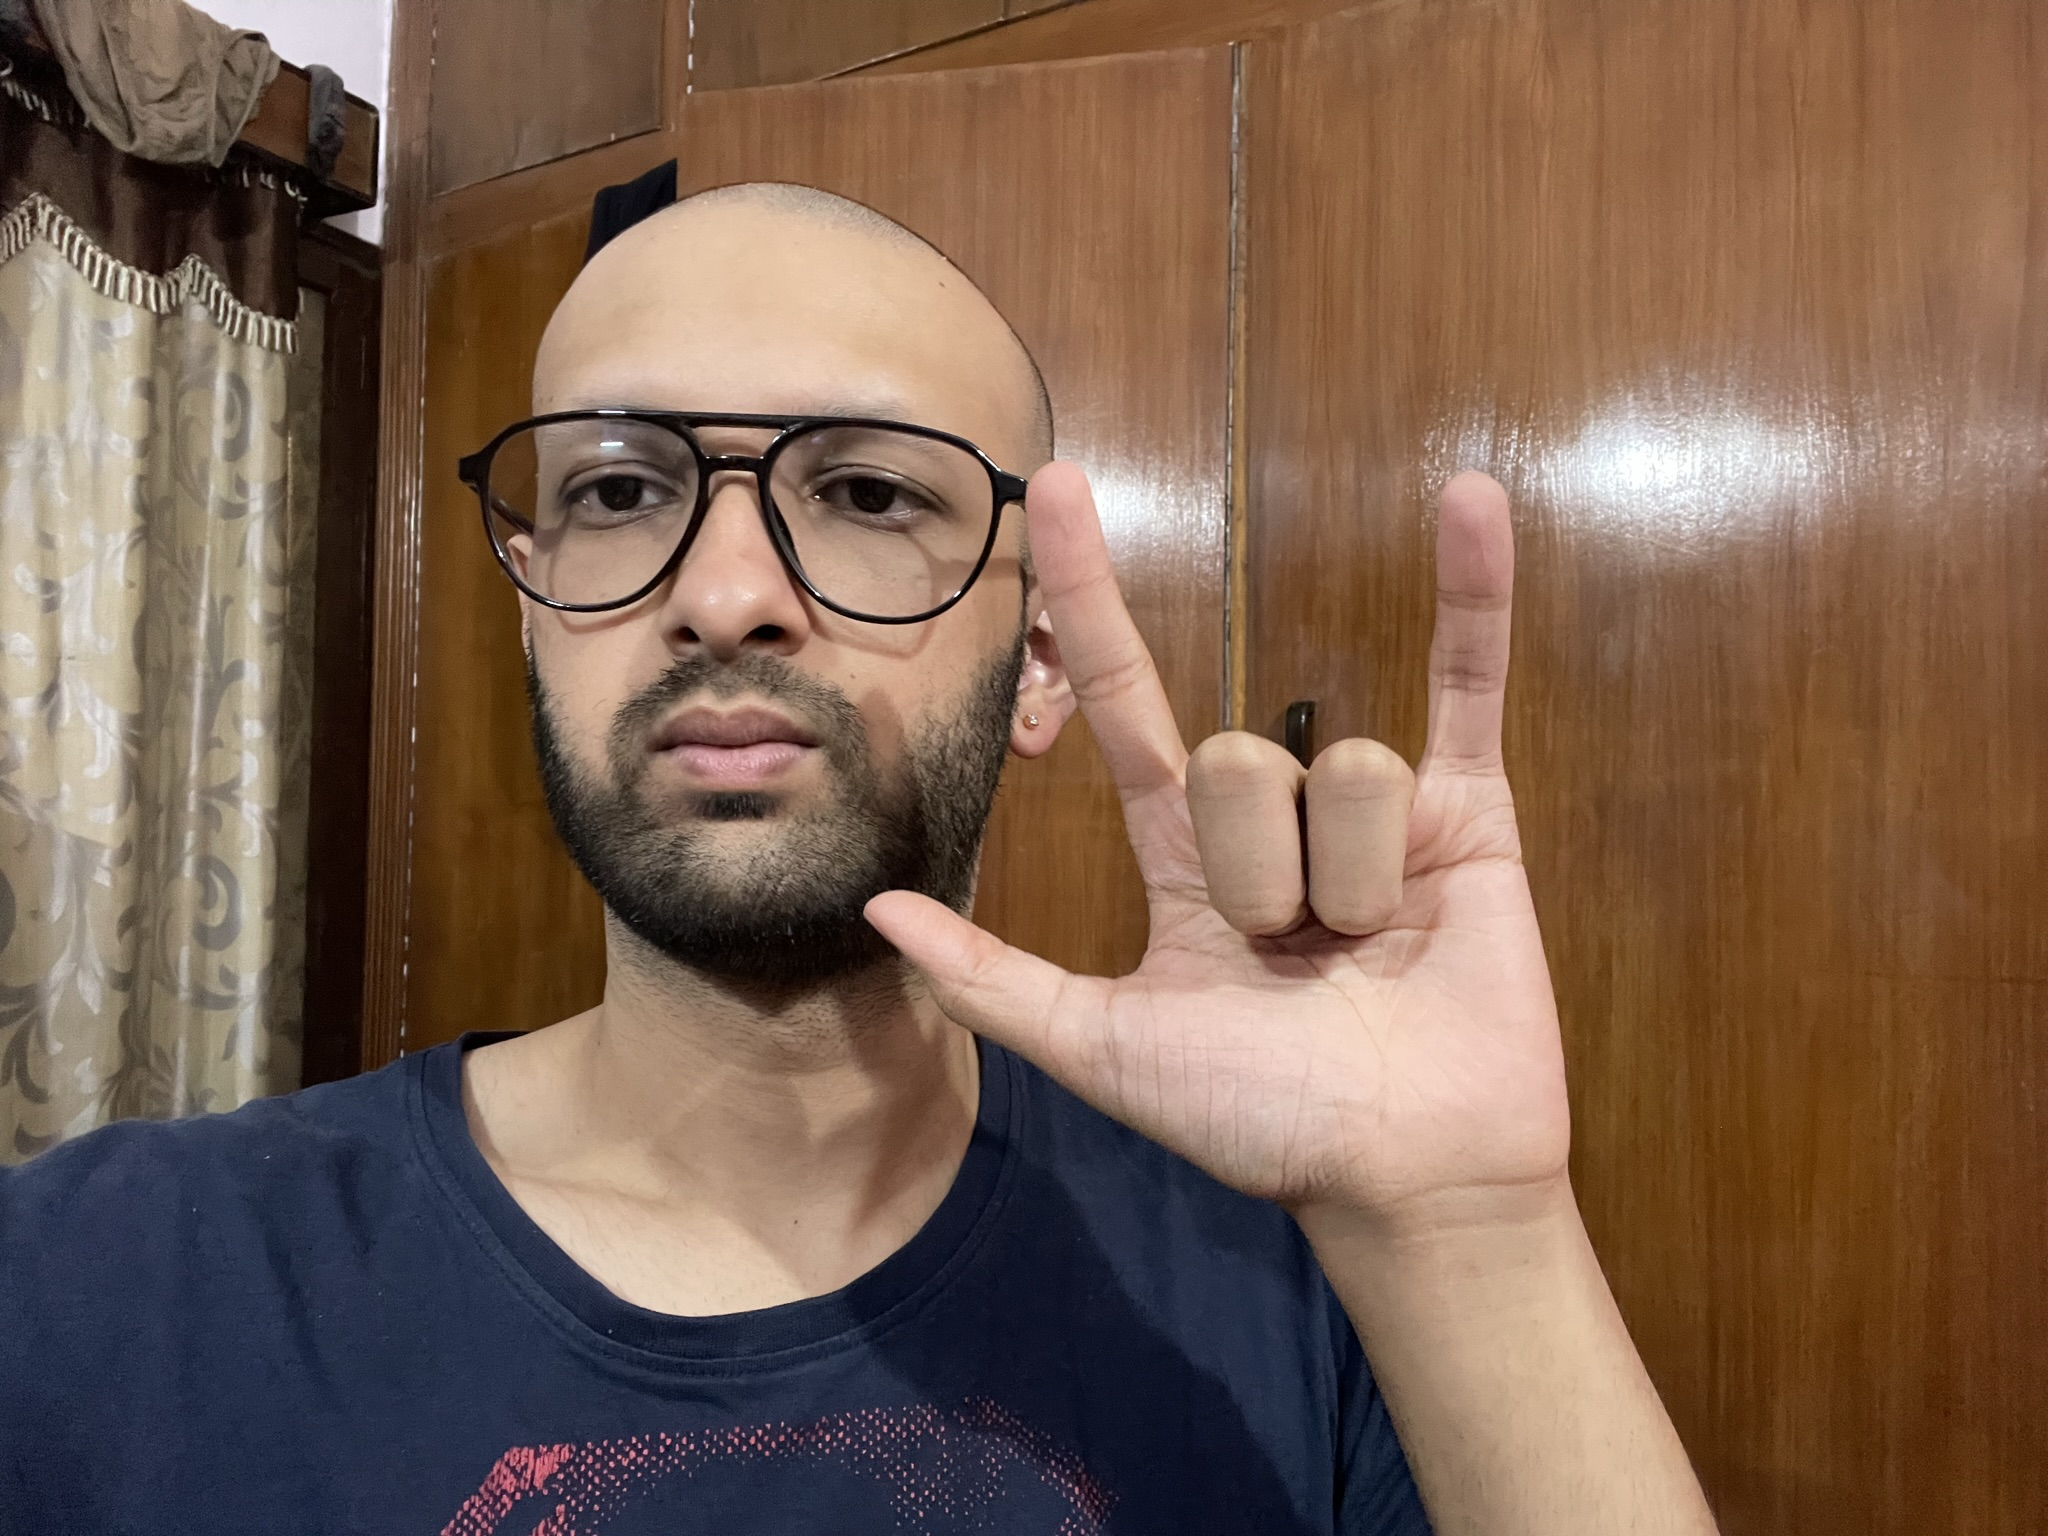I Love You: (856, 457, 1585, 1249)
